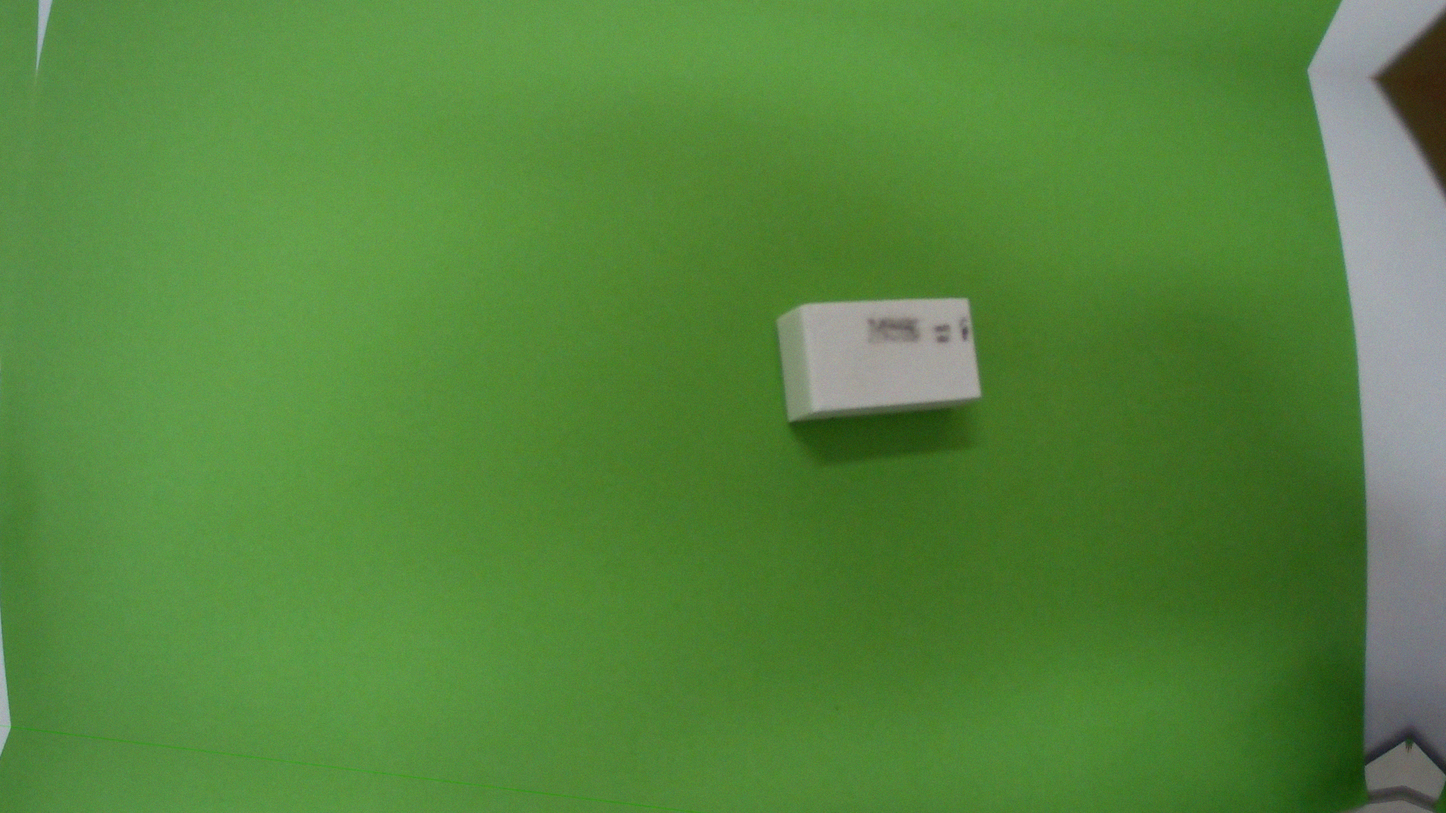gom: (765, 267, 991, 452)
